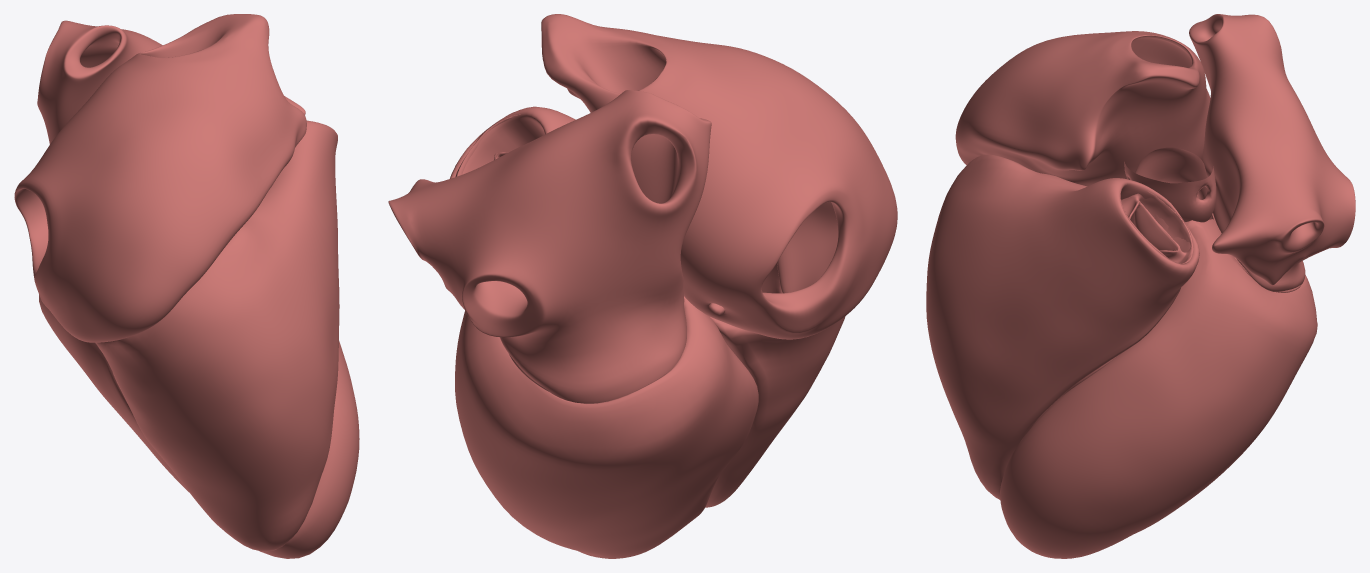
Rendered from heart.glb.
3 renders of one model, left to right at view 1: azimuth 30°, elevation 25°; view 2: azimuth 150°, elevation 25°; view 3: azimuth 270°, elevation 25°, orthographic. The views are drawn at different scales.
Parts seen in each view (by area): view 1: VH_M_right_cardiac_atrium, VH_M_heart_right_ventricle, VH_M_heart_left_ventricle, VH_M_left_cardiac_atrium; view 2: VH_M_left_cardiac_atrium, VH_M_right_cardiac_atrium, VH_M_heart_left_ventricle, VH_M_heart_right_ventricle, VH_M_tricuspid_valve; view 3: VH_M_heart_right_ventricle, VH_M_heart_left_ventricle, VH_M_right_cardiac_atrium, VH_M_left_cardiac_atrium, VH_M_aortic_valve, VH_M_pulmonary_valve.
Boxes of the visible parts, left/top/right/bottom form: VH_M_right_cardiac_atrium: left=14, top=14, right=306, bottom=342; VH_M_heart_right_ventricle: left=95, top=120, right=339, bottom=551; VH_M_heart_left_ventricle: left=39, top=294, right=359, bottom=558; VH_M_left_cardiac_atrium: left=37, top=20, right=305, bottom=144; VH_M_left_cardiac_atrium: left=388, top=90, right=711, bottom=403; VH_M_right_cardiac_atrium: left=541, top=14, right=897, bottom=339; VH_M_heart_left_ventricle: left=455, top=296, right=758, bottom=558; VH_M_heart_right_ventricle: left=450, top=106, right=845, bottom=507; VH_M_tricuspid_valve: left=777, top=202, right=838, bottom=293; VH_M_heart_right_ventricle: left=926, top=154, right=1199, bottom=499; VH_M_heart_left_ventricle: left=1000, top=219, right=1317, bottom=558; VH_M_right_cardiac_atrium: left=955, top=31, right=1210, bottom=186; VH_M_left_cardiac_atrium: left=1189, top=14, right=1355, bottom=292; VH_M_aortic_valve: left=1124, top=147, right=1216, bottom=222; VH_M_pulmonary_valve: left=1120, top=187, right=1193, bottom=264.
Bounding box in the file's own units: 0.0941 × 0.1396 × 0.11.
